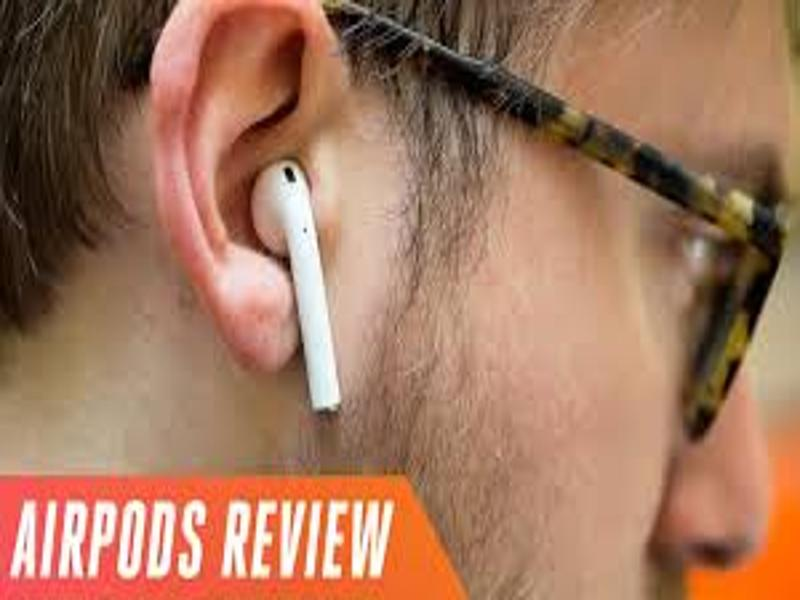headphone: (248, 155, 351, 420)
